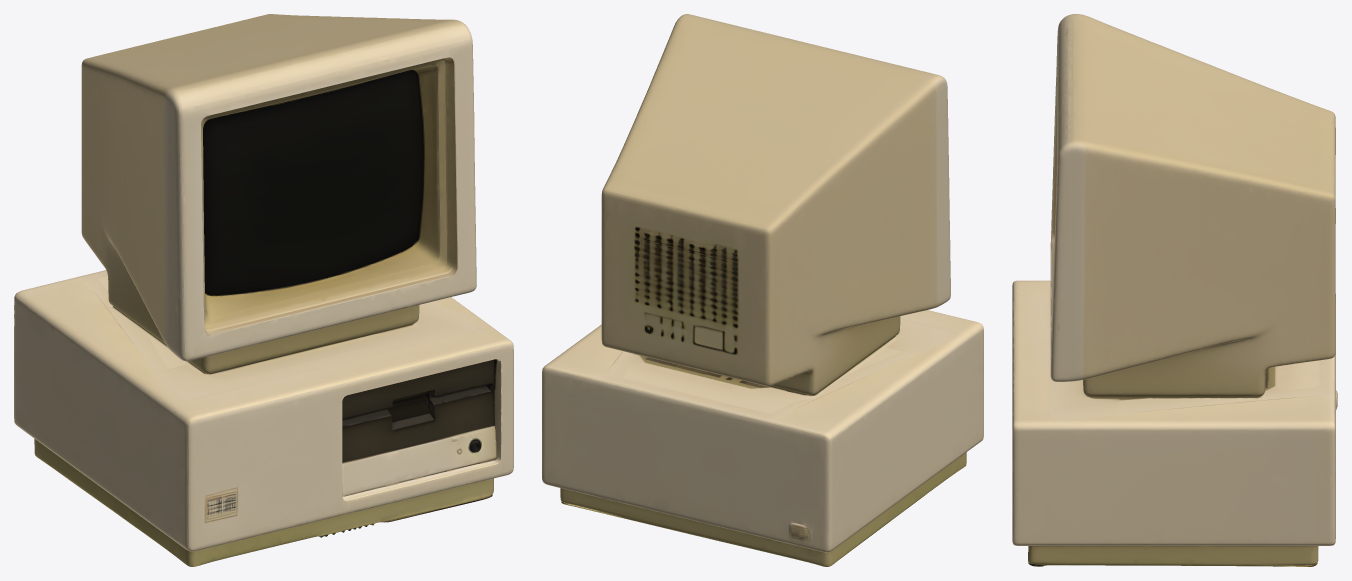
The model's file is base_basic_pbr.glb.
3 renders of one model, left to right at view 1: azimuth 30°, elevation 25°; view 2: azimuth 150°, elevation 25°; view 3: azimuth 270°, elevation 25°, orthographic. The views are drawn at different scales.
Visible parts, largest first — view 1: model; view 2: model; view 3: model.
Boxes of the visible parts, left/top/right/bottom form: model: left=14, top=14, right=513, bottom=566; model: left=542, top=14, right=983, bottom=566; model: left=1012, top=14, right=1337, bottom=566.
Size of the model in its own units: 1.42 by 1.9 by 1.33.
1 material, 1 textured.
